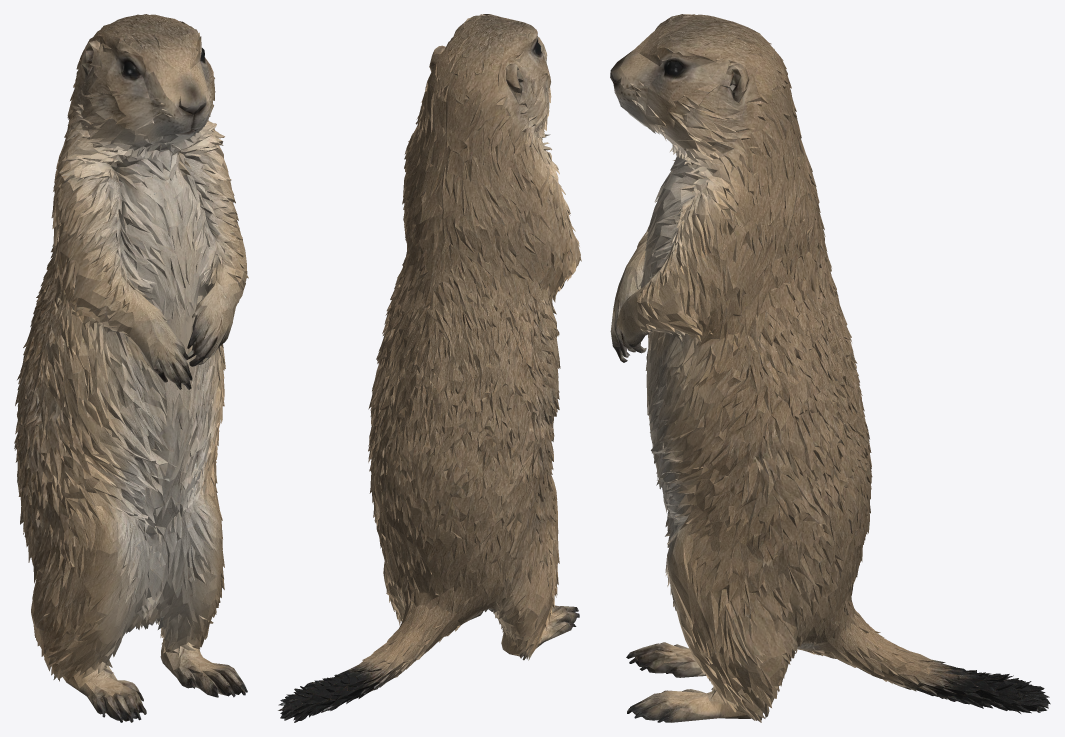
The model's file is prairie.glb.
3 renders of one model, left to right at view 1: azimuth 30°, elevation 25°; view 2: azimuth 150°, elevation 25°; view 3: azimuth 270°, elevation 25°, orthographic. The views are drawn at different scales.
Parts seen in each view (by area): view 1: Mesh_0; view 2: Mesh_0; view 3: Mesh_0.
Boxes of the visible parts, <box> form: Mesh_0: <box>14,14,248,722</box>; Mesh_0: <box>278,14,581,722</box>; Mesh_0: <box>610,14,1050,722</box>.
Bounding box in the file's own units: 0.5578 × 1.91 × 1.14.
1 material, 1 textured.
